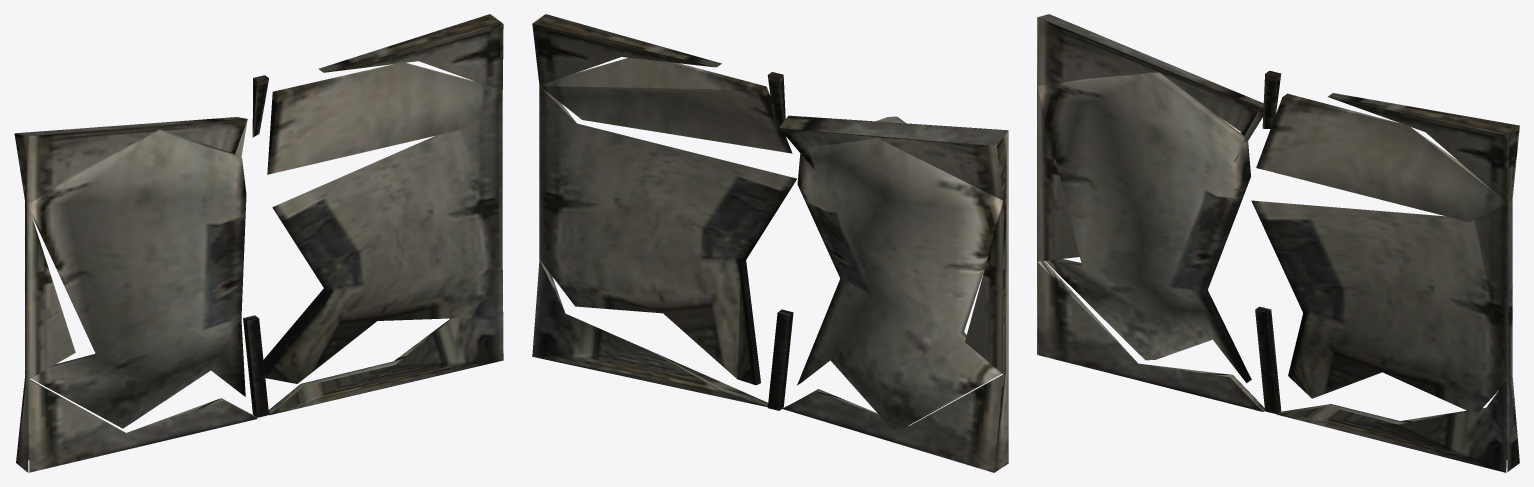
The model's file is mctardrx.glb.
3 views of the same model, side by side, from view 1: azimuth 30°, elevation 25°; view 2: azimuth 150°, elevation 25°; view 3: azimuth 330°, elevation 25° (orthographic).
Visible parts, largest first — view 1: _mctardrx; view 2: _mctardrx; view 3: _mctardrx.
Boxes of the visible parts, x1=… form: _mctardrx: x1=14, y1=14, x2=503, y2=472; _mctardrx: x1=532, y1=14, x2=1008, y2=472; _mctardrx: x1=1037, y1=14, x2=1519, y2=472.
Size of the model in its own units: 4.04 by 2.75 by 0.5906.
1 material, 1 textured.
